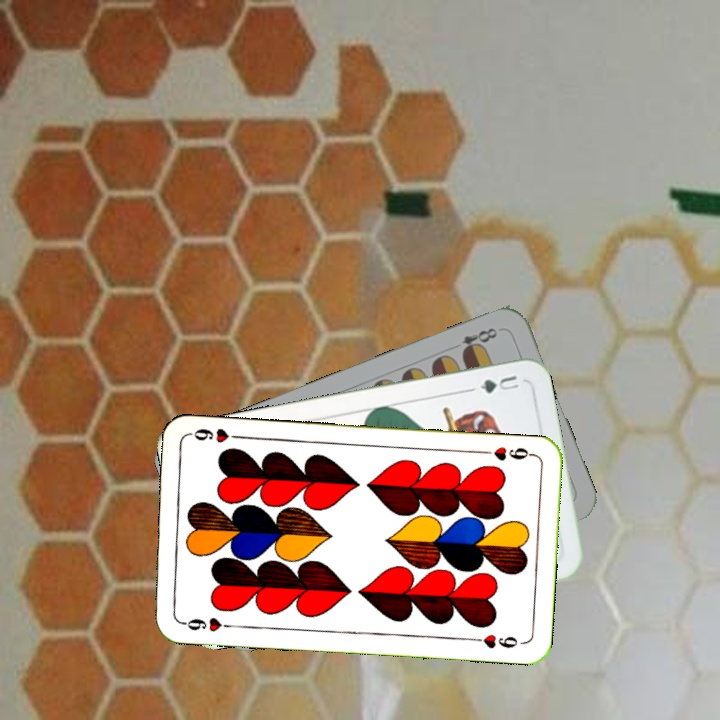E8: (457, 323, 500, 358)
GU: (476, 371, 522, 396)
H9: (177, 614, 236, 635), (477, 443, 537, 463)
